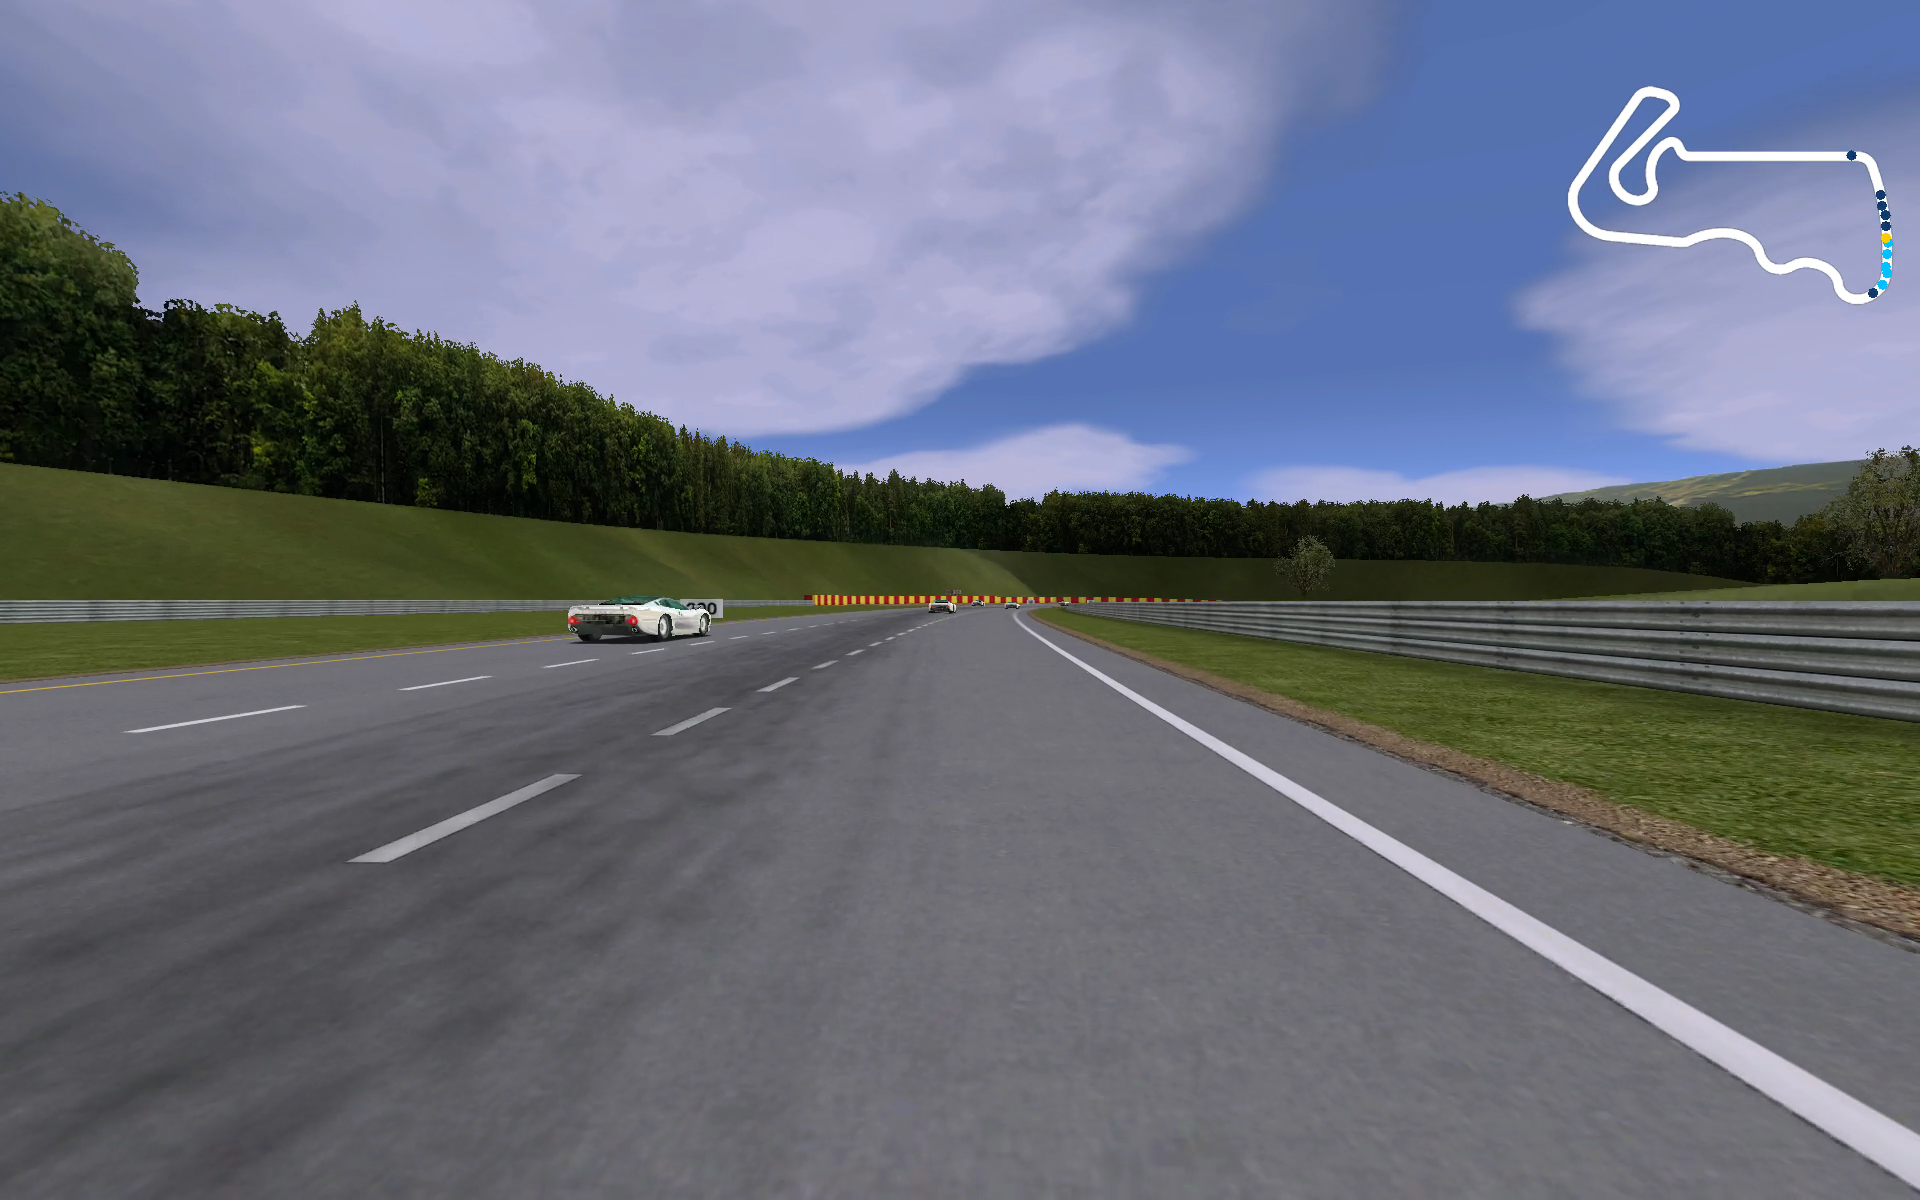car: (563, 594, 715, 643), (923, 594, 959, 618), (1001, 600, 1017, 612), (968, 594, 981, 604)
